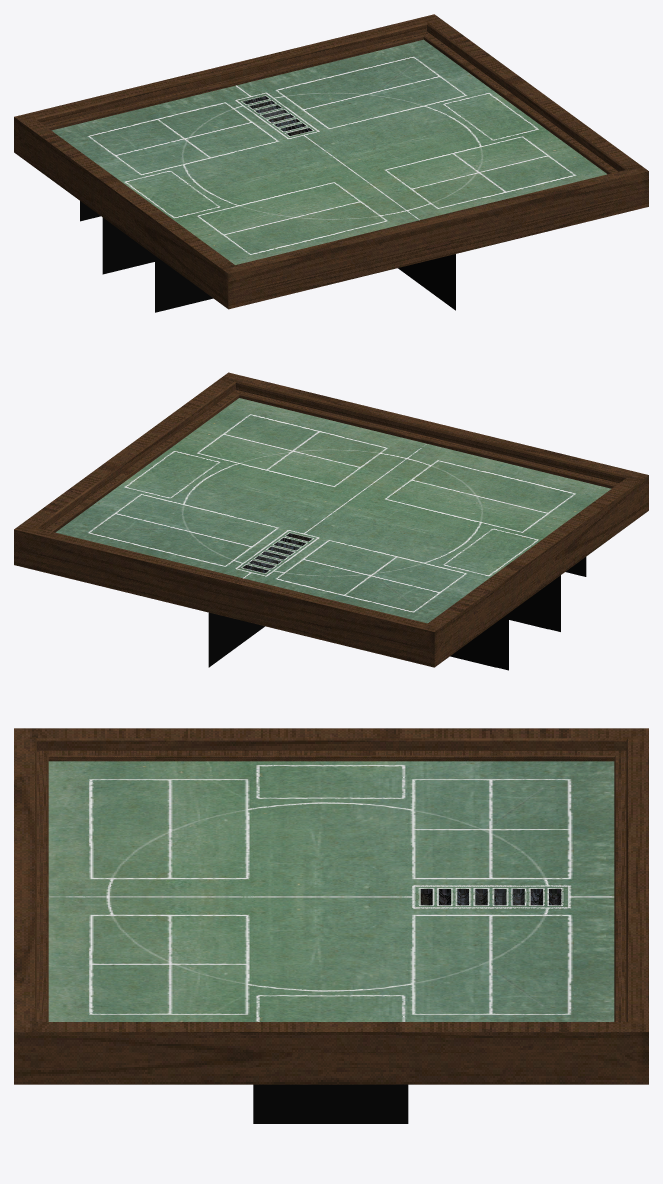
The model's file is tabletop standalone export2.glb.
The picture shows the model from 3 angles, top to bottom: view 1: azimuth 30°, elevation 25°; view 2: azimuth 150°, elevation 25°; view 3: azimuth 270°, elevation 25°; orthographic projection. The views are drawn at different scales.
Visible parts, largest first — view 1: main tabletop, compartment enemy_hacksaws, compartment user_items, compartment user_hacksaws, compartment enemy_items, compartment user_briefcase, compartment enemy_briefcase, compartment_shells, Plane_034, Plane_036, Plane_032; view 2: main tabletop, compartment enemy_hacksaws, compartment user_items, compartment user_hacksaws, compartment enemy_items, compartment user_briefcase, compartment enemy_briefcase, compartment_shells, Plane_032, Plane_035, Plane_037, Plane_034 (+1 smaller); view 3: main tabletop, compartment enemy_hacksaws, compartment user_items, compartment enemy_items, compartment user_hacksaws, Plane_034, compartment enemy_briefcase, compartment user_briefcase, compartment_shells.
Boxes of the visible parts, x1,y1,x2,y2 form: main tabletop: [14, 14, 648, 309]; compartment enemy_hacksaws: [193, 181, 390, 256]; compartment user_items: [382, 135, 579, 210]; compartment user_hacksaws: [273, 55, 469, 130]; compartment enemy_items: [85, 101, 281, 176]; compartment user_briefcase: [440, 92, 541, 141]; compartment enemy_briefcase: [122, 169, 222, 219]; compartment_shells: [232, 91, 322, 140]; Plane_034: [102, 217, 154, 274]; Plane_036: [155, 256, 213, 312]; Plane_032: [398, 254, 455, 310]; main tabletop: [14, 372, 648, 667]; compartment enemy_hacksaws: [382, 458, 579, 534]; compartment user_items: [193, 412, 390, 488]; compartment user_hacksaws: [85, 492, 281, 567]; compartment enemy_items: [273, 538, 469, 613]; compartment user_briefcase: [121, 449, 223, 499]; compartment enemy_briefcase: [441, 527, 541, 577]; compartment_shells: [232, 528, 322, 577]; Plane_032: [208, 612, 264, 667]; Plane_035: [450, 623, 496, 667]; Plane_037: [509, 584, 548, 629]; Plane_034: [496, 613, 508, 670]; main tabletop: [14, 728, 648, 1084]; compartment enemy_hacksaws: [85, 777, 252, 880]; compartment user_items: [85, 913, 252, 1016]; compartment enemy_items: [409, 777, 573, 880]; compartment user_hacksaws: [409, 913, 573, 1016]; Plane_034: [253, 1084, 408, 1123]; compartment enemy_briefcase: [254, 763, 406, 799]; compartment user_briefcase: [254, 993, 406, 1021]; compartment_shells: [409, 884, 573, 909].
Bounding box in the file's own units: 22.69 × 5.15 × 20.04.
10 materials, 9 textured.
